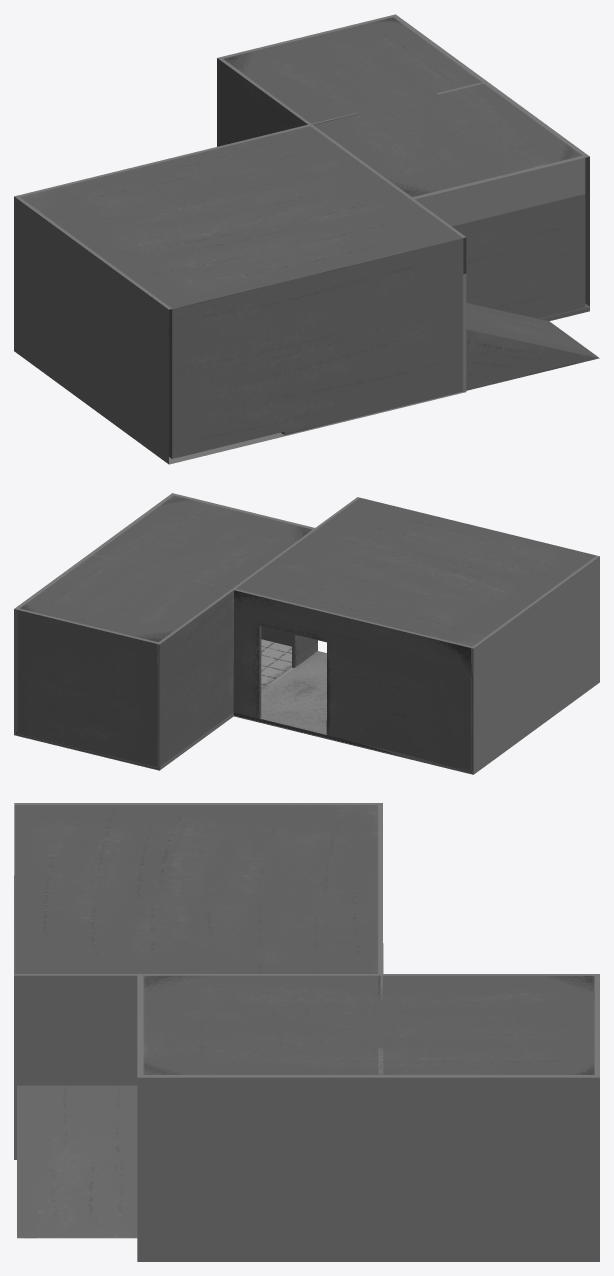
Rendered from UpstairsNoBedroom.fbx.
The picture shows the model from 3 angles, top to bottom: view 1: azimuth 30°, elevation 25°; view 2: azimuth 150°, elevation 25°; view 3: azimuth 270°, elevation 25°; orthographic projection. The views are drawn at different scales.
Parts seen in each view (by area): view 1: UpStairs.002; view 2: UpStairs.002; view 3: UpStairs.002.
Boxes of the visible parts, bbox=[...] form: UpStairs.002: bbox=[14, 14, 599, 464]; UpStairs.002: bbox=[14, 493, 599, 774]; UpStairs.002: bbox=[14, 803, 599, 1261].
Size of the model in its own units: 1626 by 509 by 1466.
